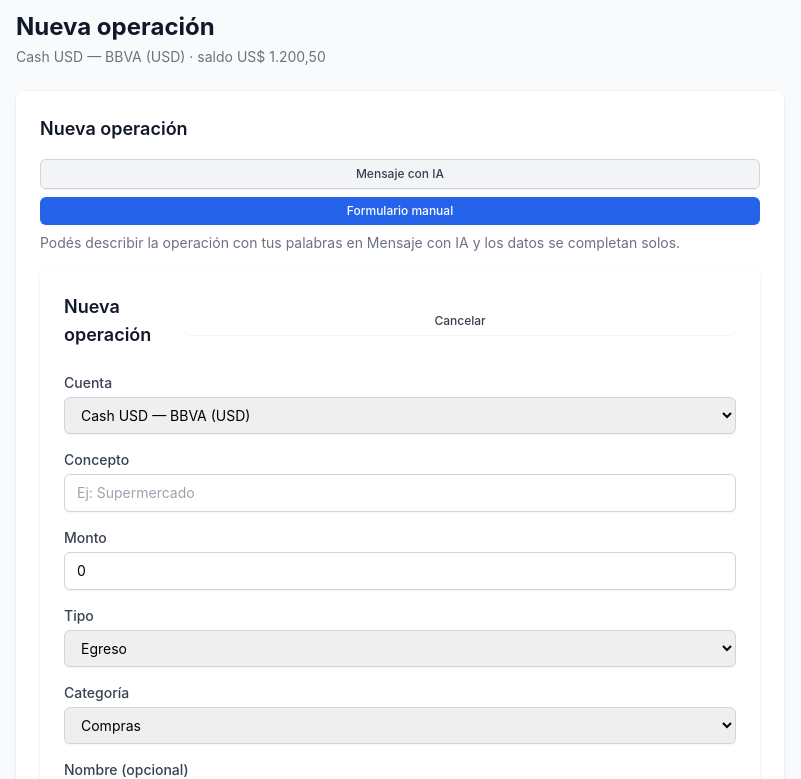
Test case: NewOperationPage (tabs IA / manual) › shows the backend detail when the extraction fails
The image size is (801, 779).
Click the button "Mensaje con IA" at (400, 174), box [40, 159, 760, 189]
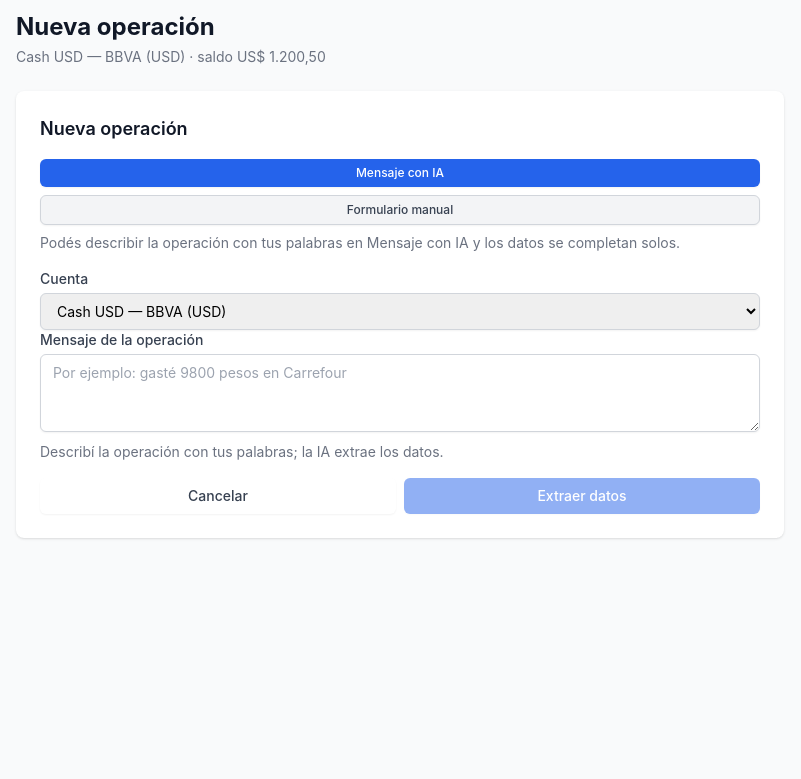
Type "pague 10800 pesos" into the text box labelled "Mensaje de la operación" at (400, 393), box [40, 354, 760, 432]
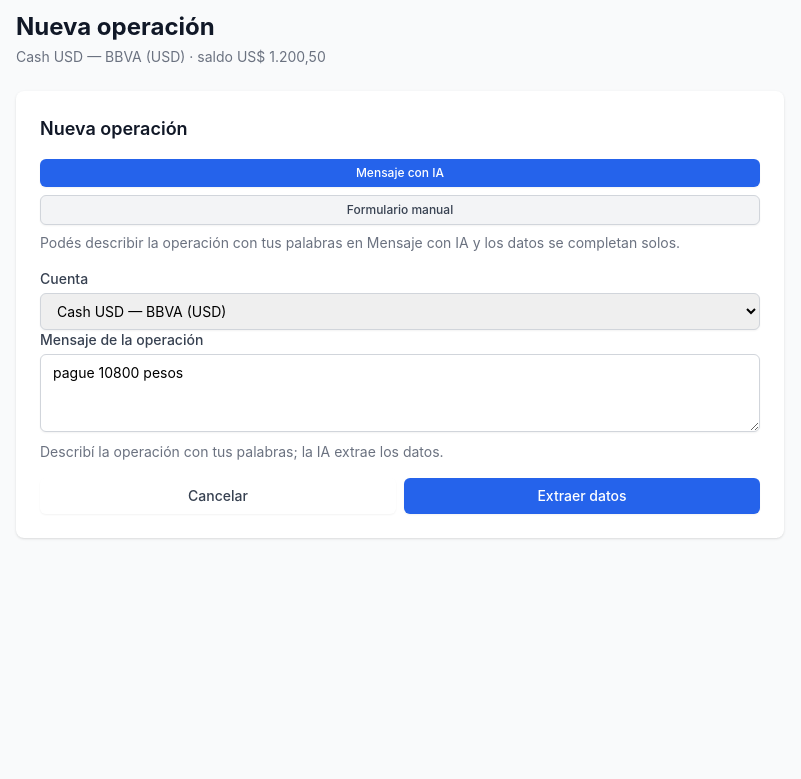
Click the button "Extraer datos" at (582, 496), box [404, 478, 760, 514]
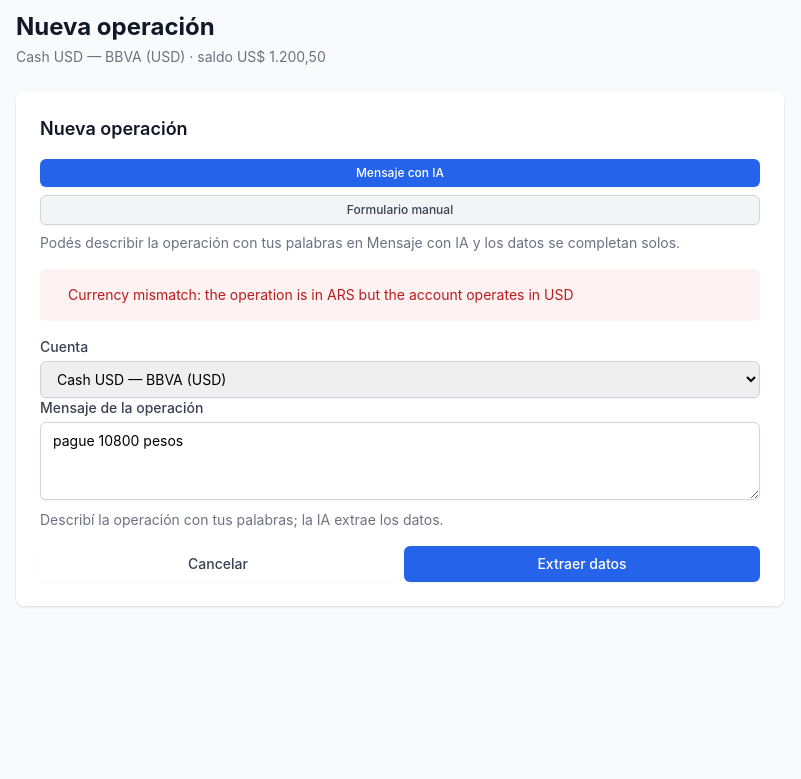
Now the text "Currency mismatch" is shown, box [68, 286, 574, 303]
